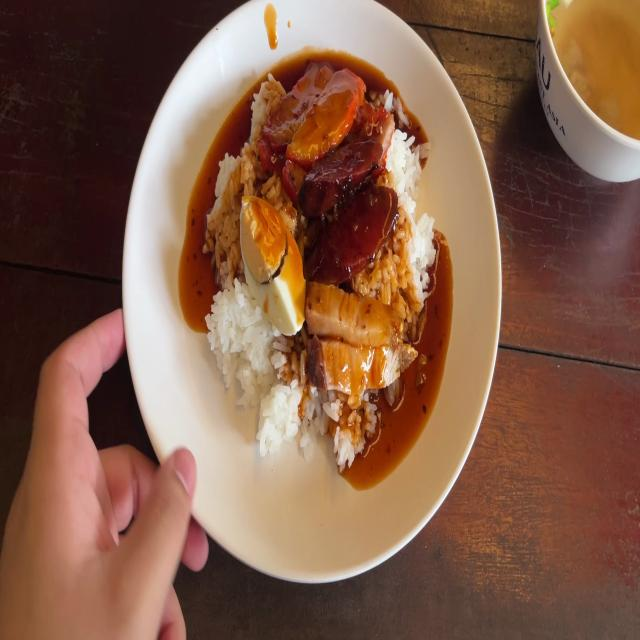red_pork_and_crispy_pork: (242, 202, 302, 334)
stir_fried_basil: (304, 132, 391, 266)
